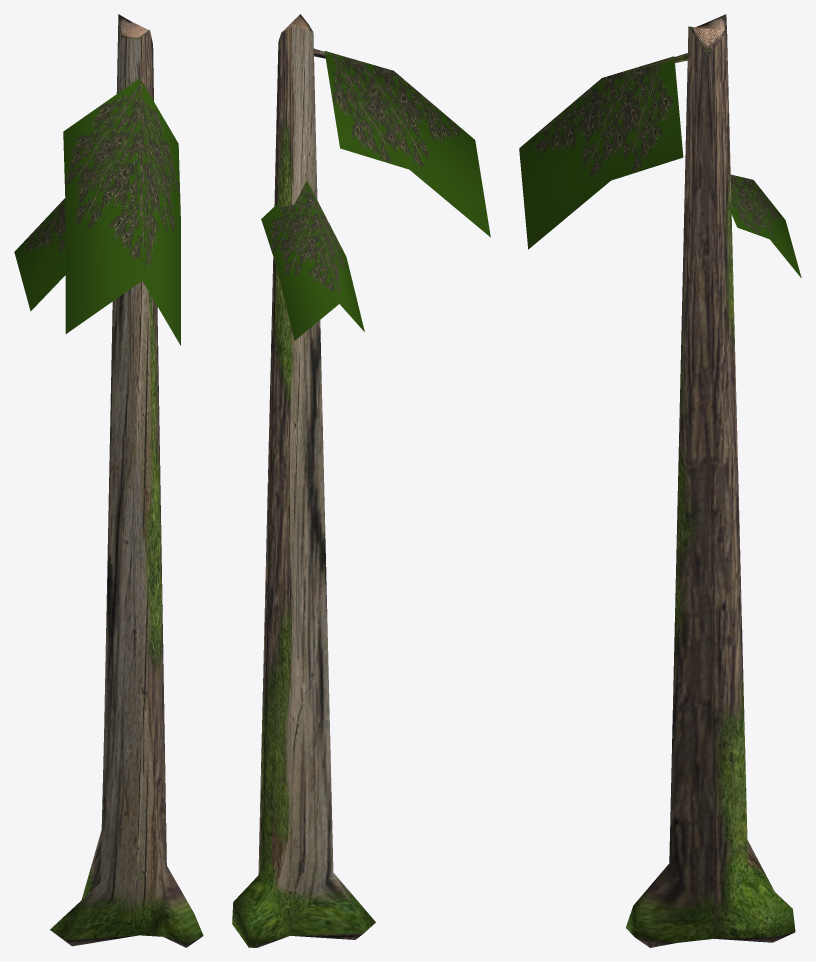
The model's file is tree_cracked.glb.
The picture shows the model from 3 angles, left to right: view 1: azimuth 30°, elevation 25°; view 2: azimuth 150°, elevation 25°; view 3: azimuth 270°, elevation 25°; orthographic projection.
Visible parts, largest first — view 1: tree_cracked; view 2: tree_cracked; view 3: tree_cracked.
Part boxes in pixels (bbox=[...]): tree_cracked: bbox=[14, 14, 203, 947]; tree_cracked: bbox=[232, 14, 490, 947]; tree_cracked: bbox=[519, 14, 801, 947].
Size of the model in its own units: 5.56 by 27.51 by 7.65.
1 material, 1 textured.
